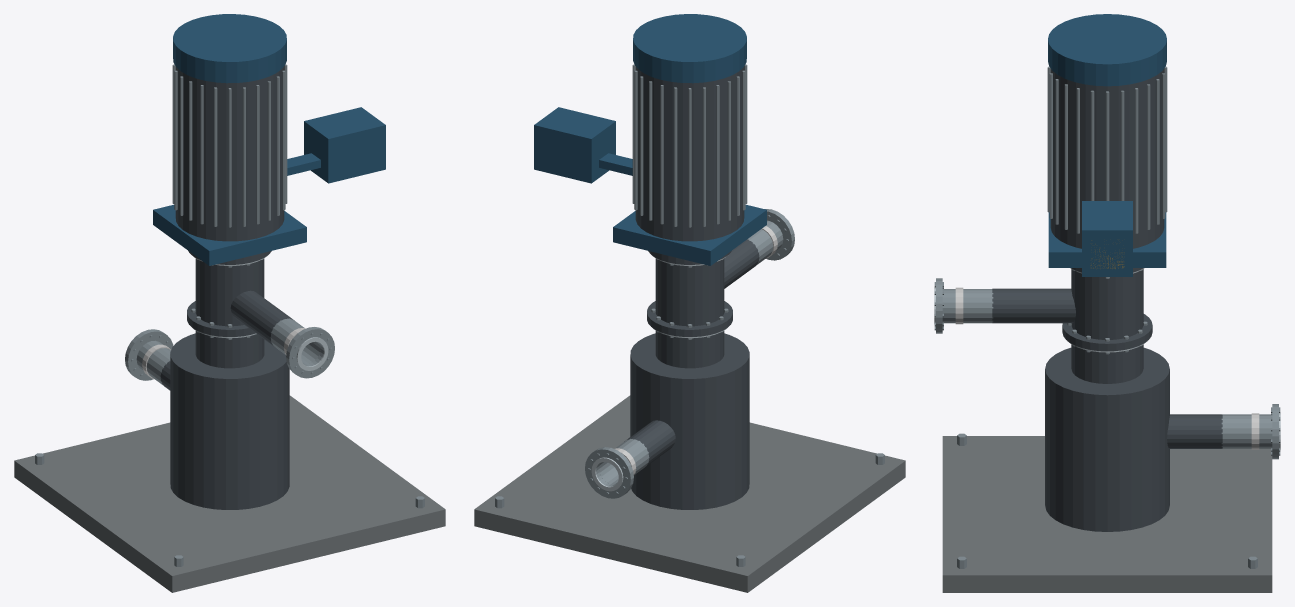
File: body.obj
3 renders of one model, left to right at view 1: azimuth 30°, elevation 25°; view 2: azimuth 150°, elevation 25°; view 3: azimuth 270°, elevation 25°, orthographic. The views are drawn at different scales.
Bounding box in the file's own units: 4.88 × 7.71 × 5.
